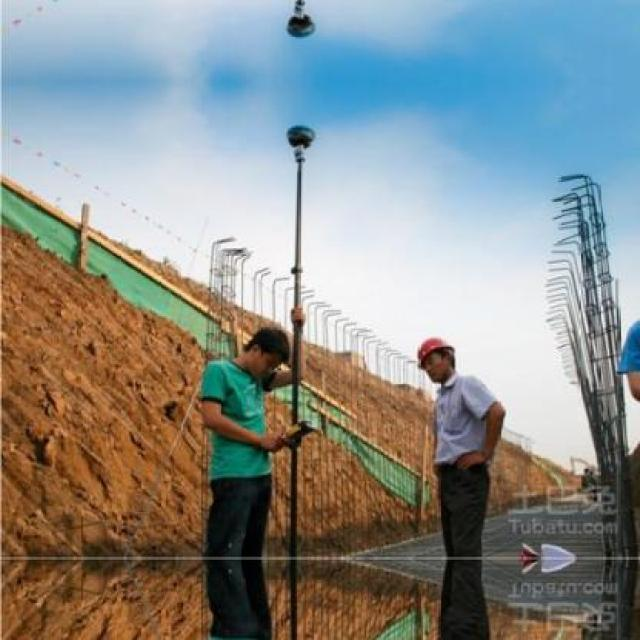helmet: (409, 318, 462, 386)
